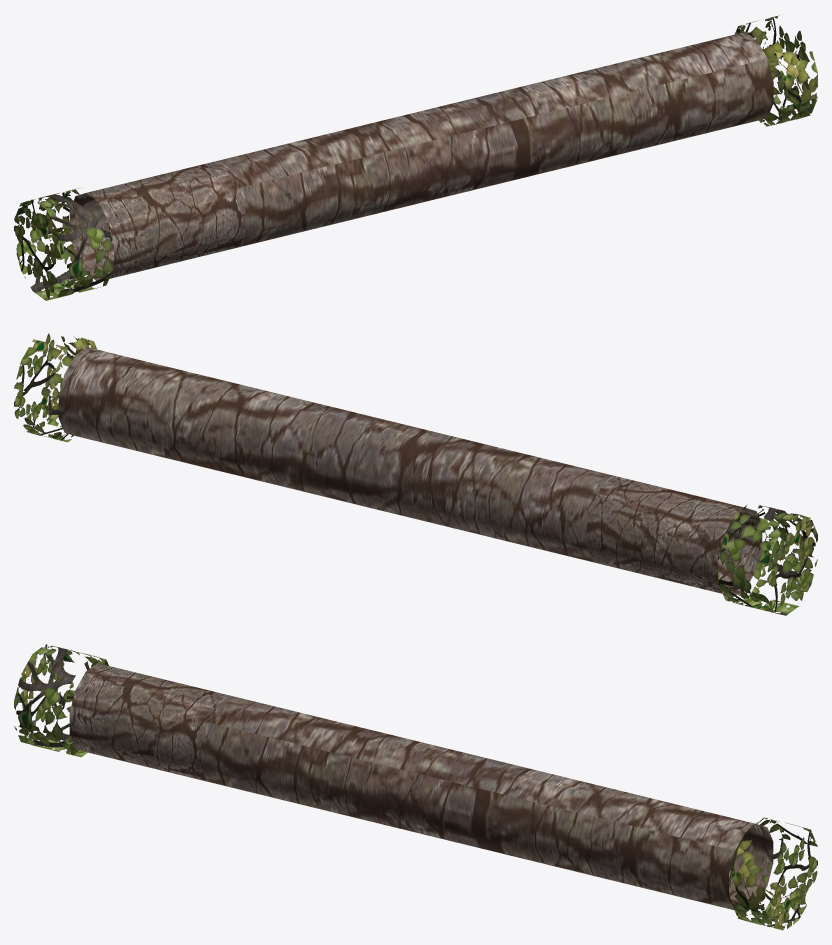
3 views of the same model, one above another, from view 1: azimuth 30°, elevation 25°; view 2: azimuth 150°, elevation 25°; view 3: azimuth 330°, elevation 25° (orthographic).
Visible parts, largest first — view 1: Tube_e; view 2: Tube_e; view 3: Tube_e.
Part boxes in pixels (bbox=[...]): Tube_e: bbox=[14, 15, 817, 300]; Tube_e: bbox=[14, 333, 817, 615]; Tube_e: bbox=[14, 644, 817, 930].
Bounding box in the file's own units: 5.36 × 0.6462 × 0.6458.
